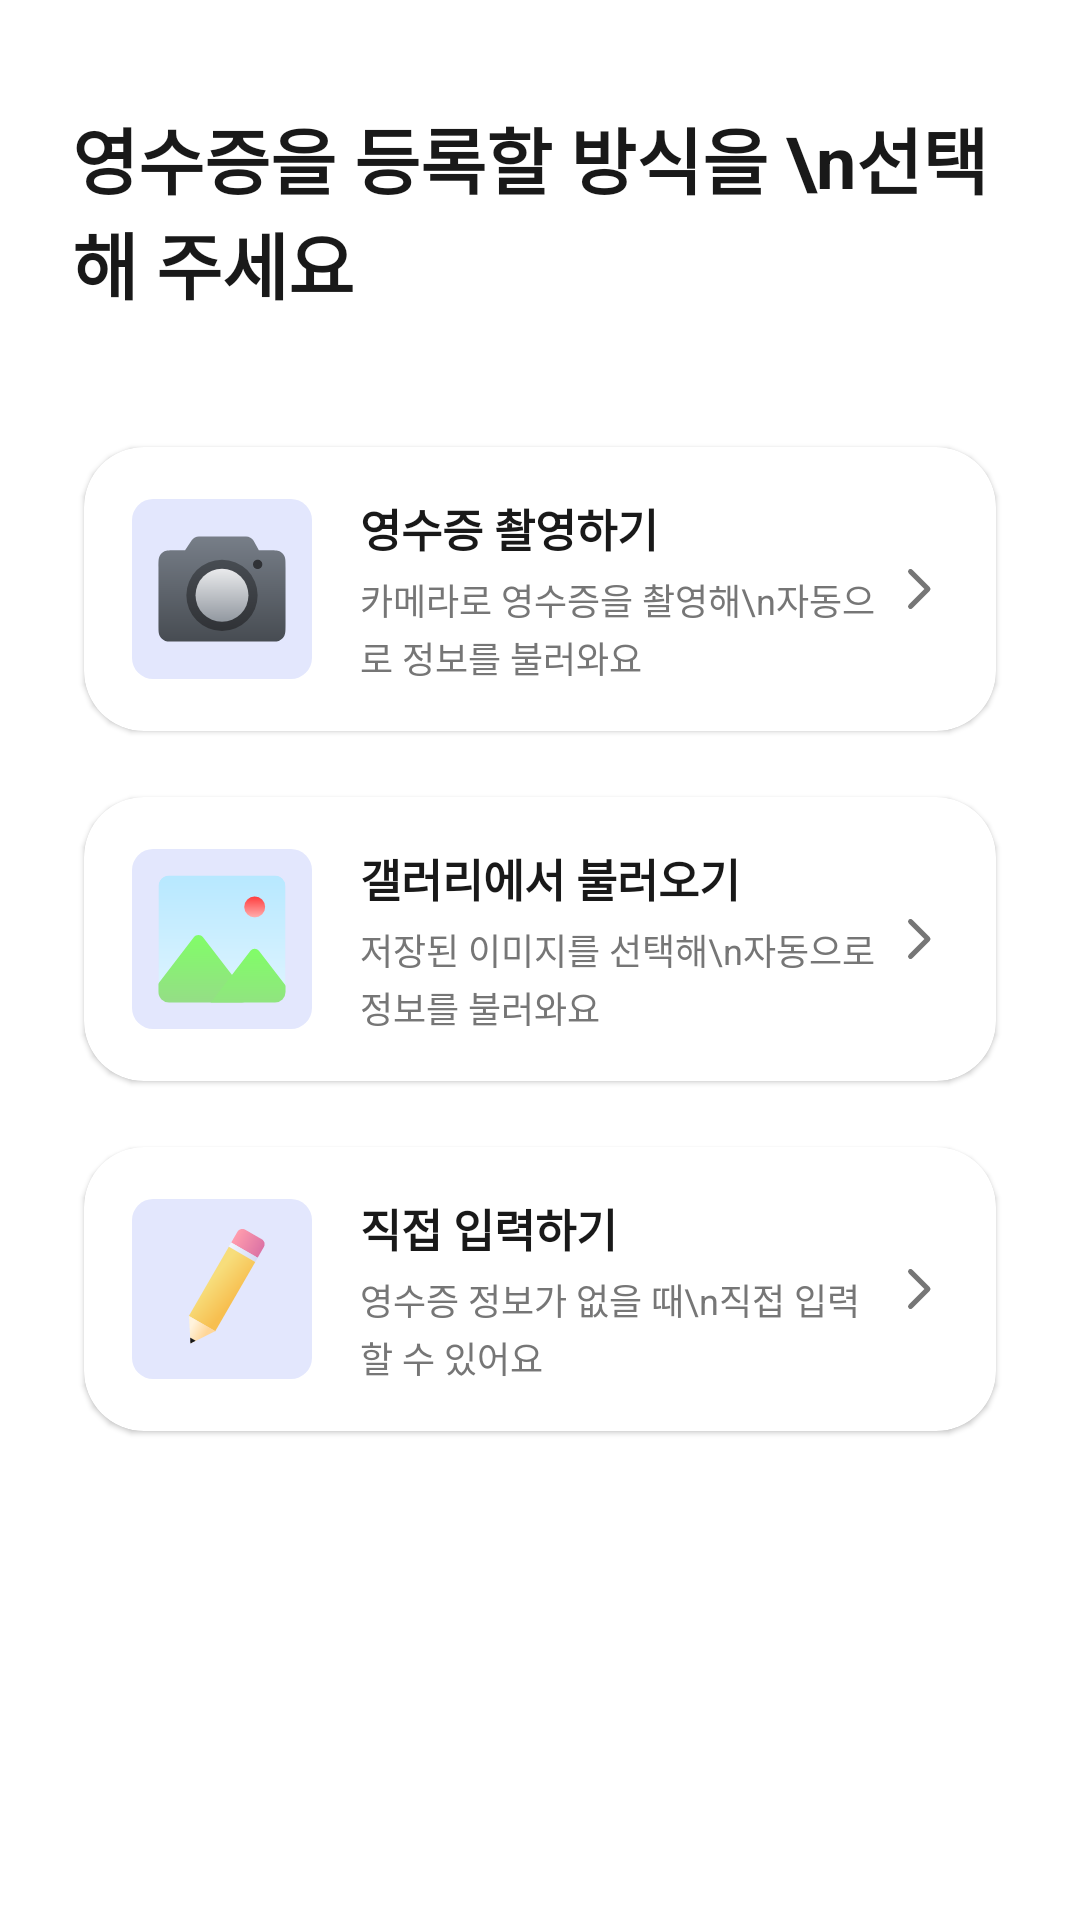

Where to tap for icons on this 1080px×1920px app screen, as (x,y):
갤러리 아이콘: (222,939)
이동: (919,589), (919,939), (919,1289)
직접 입력 아이콘: (222,1289)
촬영 아이콘: (222,589)
